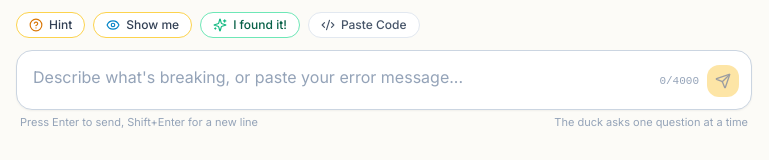
Scenario: Composer component › updates text input and shows character counter
Type "TypeError: x is not a function" into the text box named "Debug message composer" at x=384, y=77, box 17,51 -> 751,103
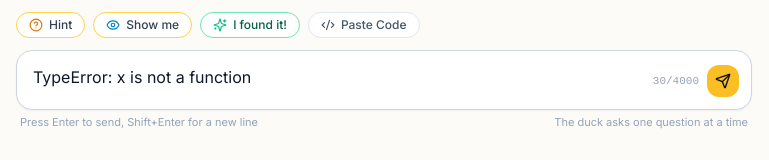
Expected: the text "30/4000" is shown, 653,73 -> 699,89
